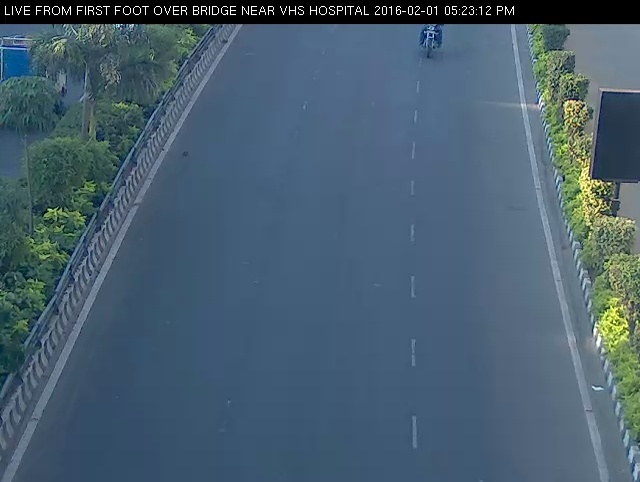Person: (416, 16, 448, 64)
